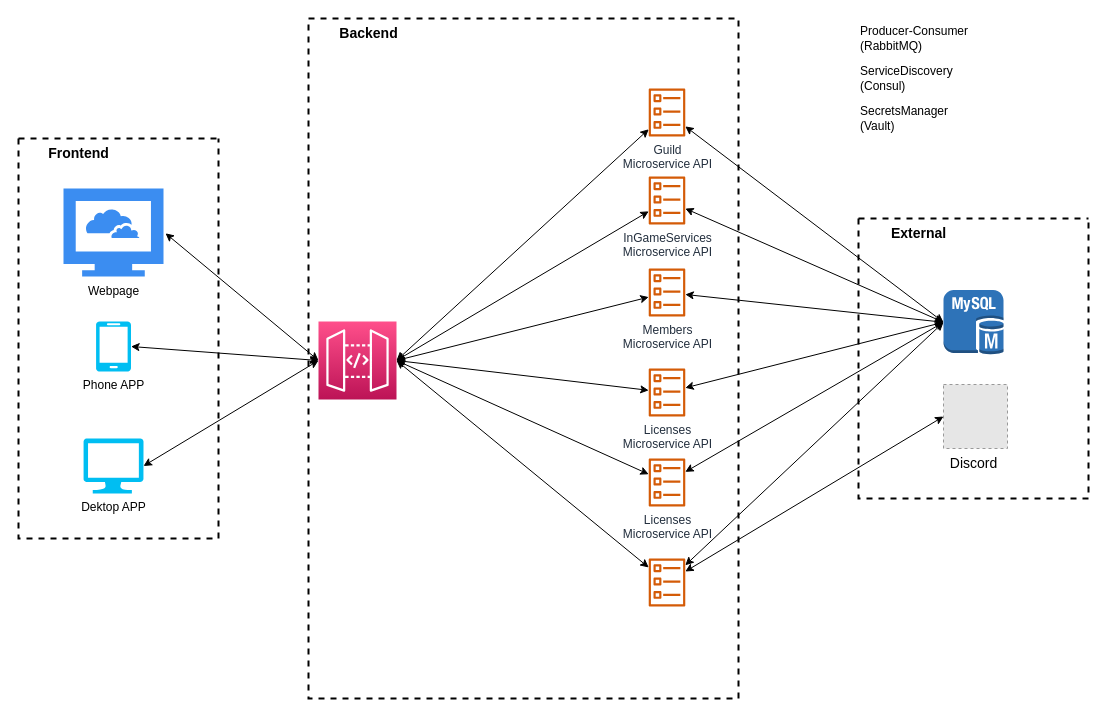
Some shapes in this 1106 by 716 pixel diagram are drawn without their labels. Grey dashed boxes stand in for pictures. Here are the shapes that lost their labels. From the top down, the centre of each, then its label:
At (357,360): "API Gateway (YARP)".
At (666,582): "Mandri Microservice API".
